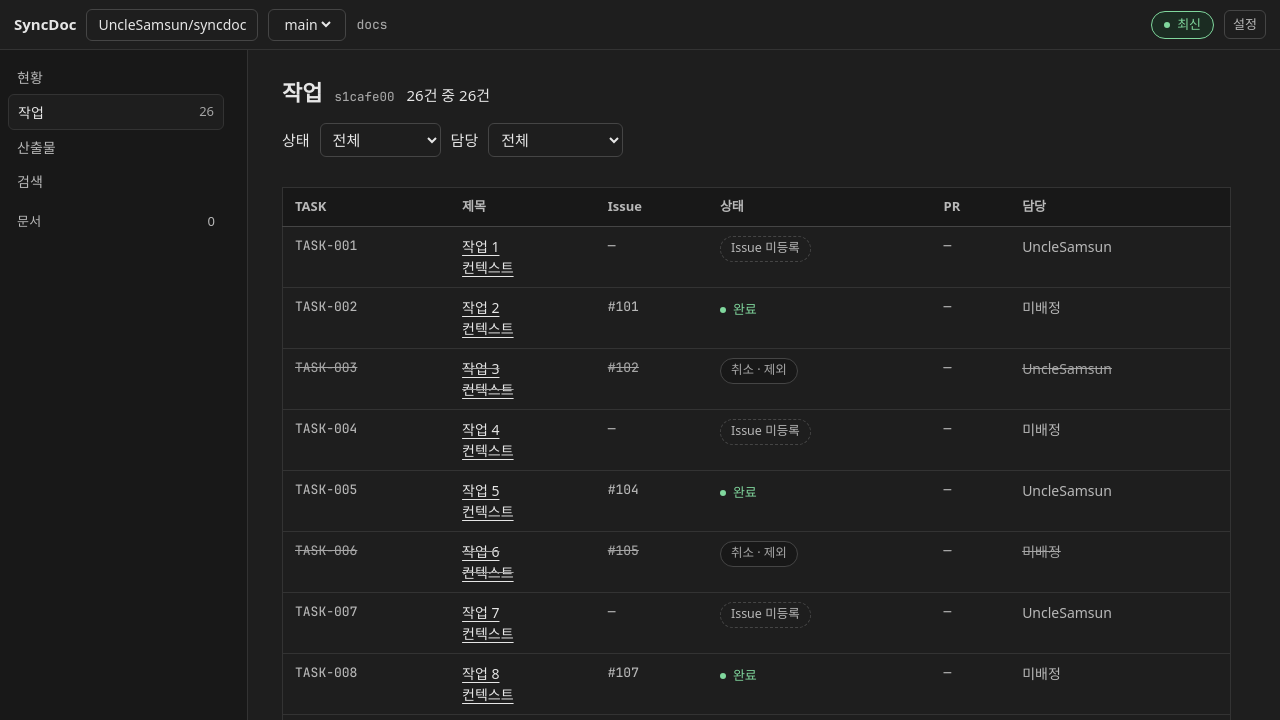
UI-014 작업 전체 목록 › keeps a filter in the address so the same list comes back
Select "완료" in the dropdown labelled "상태" at (380, 140), box [320,123,441,157]
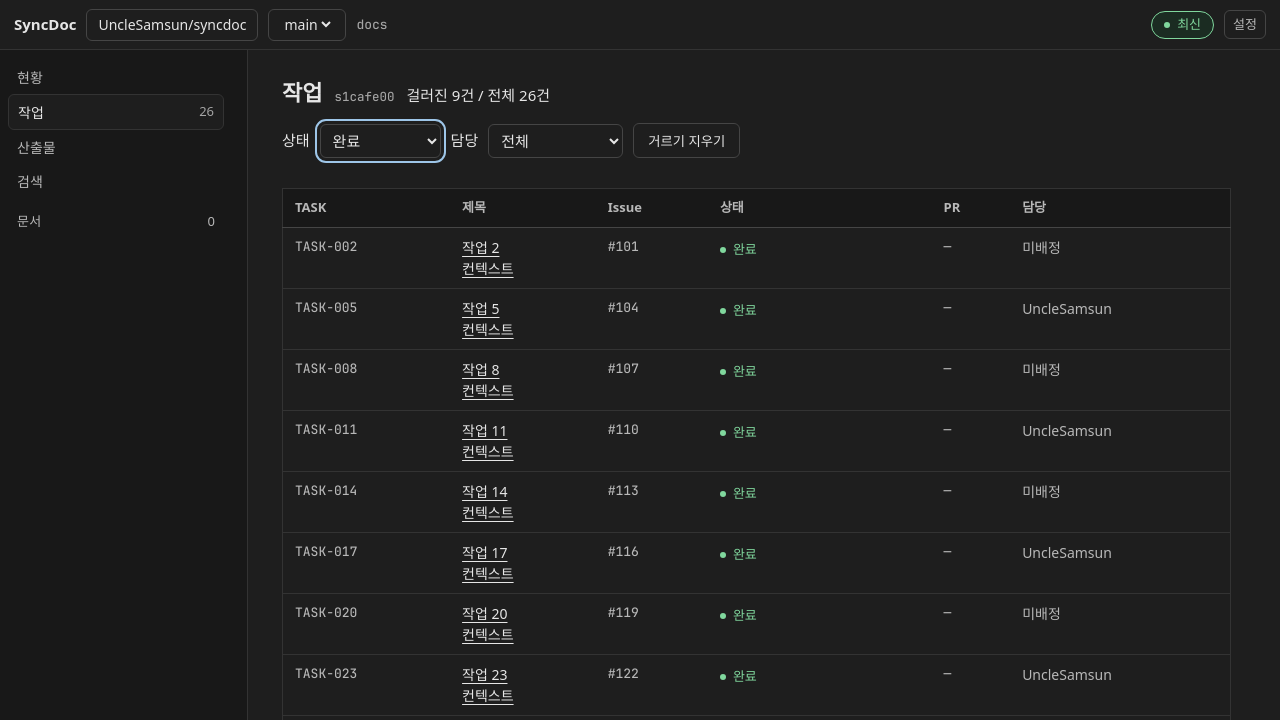
Expected: the text "걸러진 9건 / 전체 26건" is shown, [406,84,550,106]
